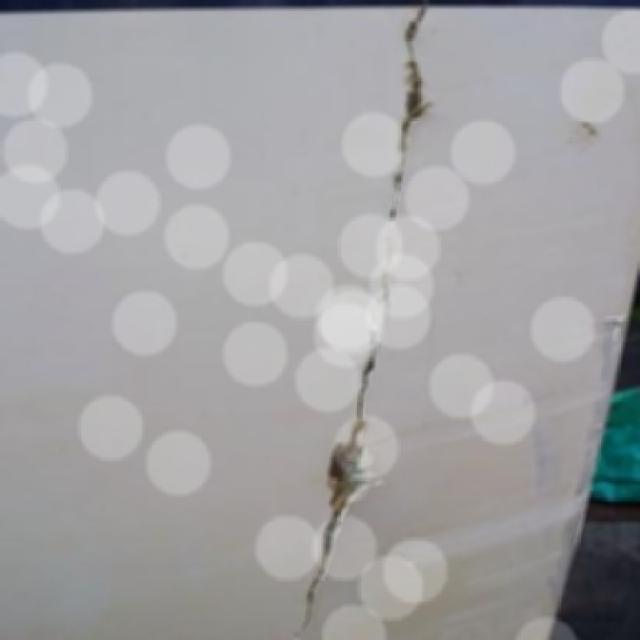crack: (298, 357, 374, 636), (405, 9, 423, 122)
